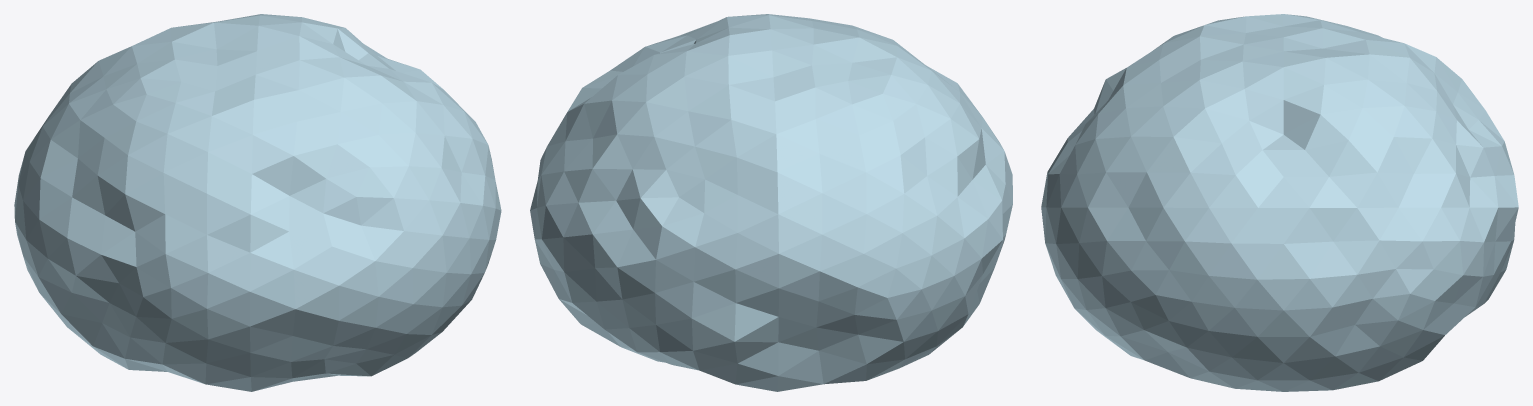
3 renders of one model, left to right at view 1: azimuth 30°, elevation 25°; view 2: azimuth 150°, elevation 25°; view 3: azimuth 270°, elevation 25°, orthographic.
Visible parts, largest first — view 1: ice-chunk; view 2: ice-chunk; view 3: ice-chunk.
Part boxes in pixels (x1=…): ice-chunk: x1=14, y1=14, x2=501, y2=391; ice-chunk: x1=530, y1=14, x2=1012, y2=391; ice-chunk: x1=1041, y1=14, x2=1518, y2=391.
Bounding box in the file's own units: 2.23 × 1.37 × 2.2.
